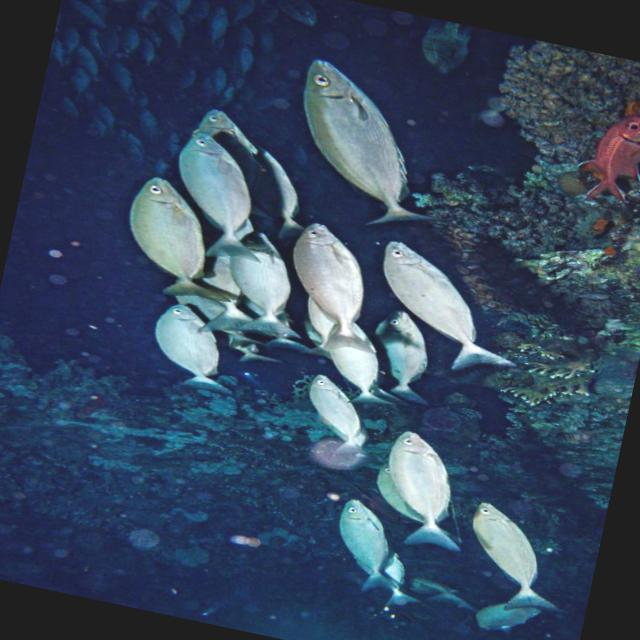Sokar Baligi: (256, 39, 499, 250), (442, 490, 586, 624)
